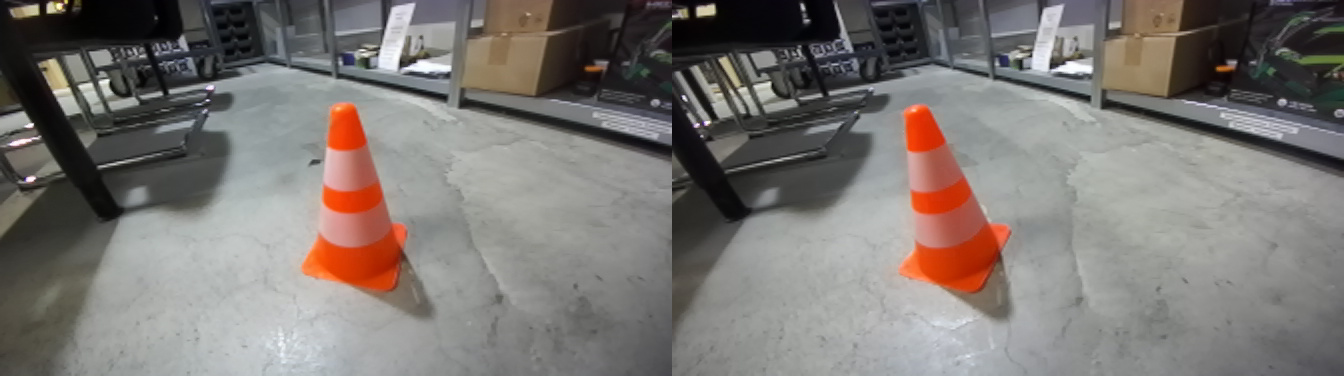cone: (900, 107, 1026, 300), (302, 107, 412, 301)
